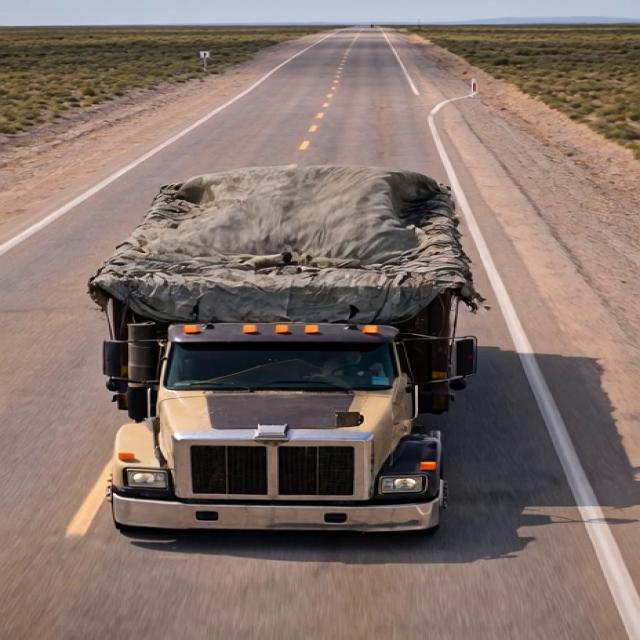trailer: (92, 160, 472, 326)
truck: (82, 139, 538, 532)
